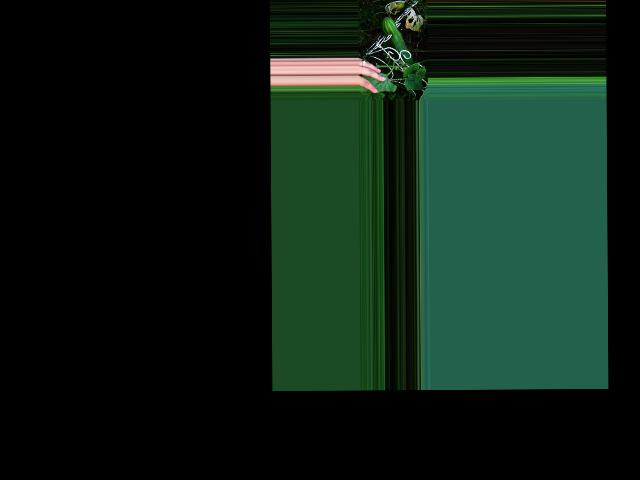cucumber: (380, 17, 413, 66)
